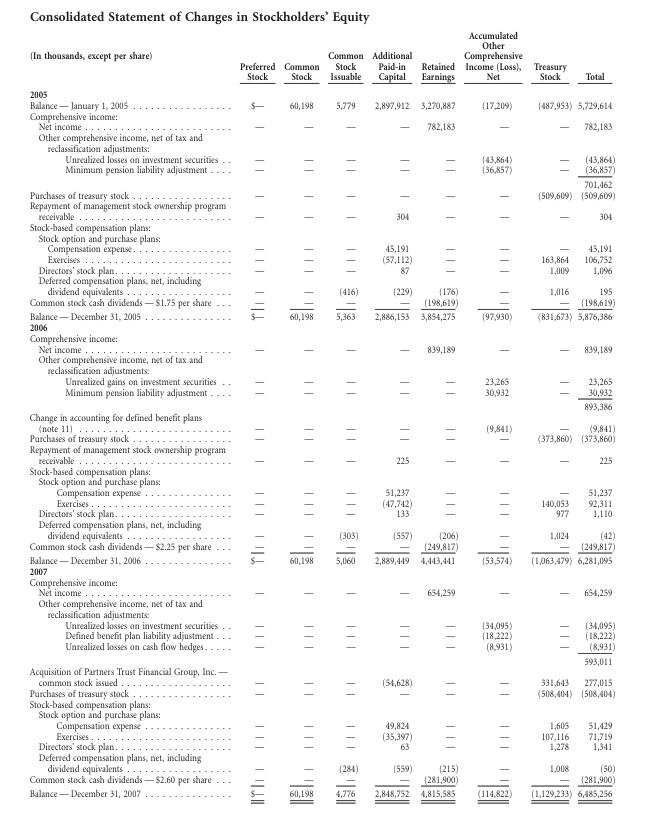table: (28, 29, 614, 798)
table column: (28, 29, 232, 798), (460, 29, 526, 798), (366, 29, 415, 798), (526, 29, 574, 798), (232, 29, 278, 798), (415, 29, 460, 798), (278, 29, 322, 798), (322, 29, 366, 798), (574, 29, 614, 798)
table column header: (28, 29, 614, 85)
table projected row header: (28, 131, 614, 153), (28, 597, 614, 619), (28, 354, 614, 375), (28, 85, 614, 99), (28, 110, 614, 121), (28, 221, 614, 232), (28, 232, 614, 243), (28, 321, 614, 332), (28, 332, 614, 343), (28, 465, 614, 476), (28, 565, 614, 576), (28, 576, 614, 587), (28, 698, 614, 709), (28, 476, 614, 486), (28, 709, 614, 719)
table row: (28, 29, 614, 85), (28, 131, 614, 153), (28, 411, 614, 433), (28, 443, 614, 465), (28, 518, 614, 540), (28, 597, 614, 619), (28, 751, 614, 773), (28, 200, 614, 221), (28, 275, 614, 296), (28, 354, 614, 375), (28, 666, 614, 687), (28, 85, 614, 99), (28, 176, 614, 189), (28, 296, 614, 309), (28, 386, 614, 399), (28, 540, 614, 553), (28, 640, 614, 653), (28, 653, 614, 666), (28, 773, 614, 786), (28, 164, 614, 176), (28, 309, 614, 321), (28, 399, 614, 411), (28, 553, 614, 565), (28, 786, 614, 798), (28, 99, 614, 110), (28, 110, 614, 121), (28, 153, 614, 164), (28, 189, 614, 200), (28, 221, 614, 232), (28, 232, 614, 243), (28, 253, 614, 264), (28, 264, 614, 275), (28, 321, 614, 332), (28, 332, 614, 343), (28, 343, 614, 354), (28, 375, 614, 386), (28, 465, 614, 476), (28, 486, 614, 497), (28, 497, 614, 508), (28, 565, 614, 576), (28, 576, 614, 587), (28, 619, 614, 630), (28, 687, 614, 698), (28, 698, 614, 709), (28, 719, 614, 730), (28, 730, 614, 741), (28, 121, 614, 131), (28, 243, 614, 253), (28, 433, 614, 443), (28, 476, 614, 486), (28, 508, 614, 518), (28, 587, 614, 597), (28, 630, 614, 640), (28, 709, 614, 719), (28, 741, 614, 751)
